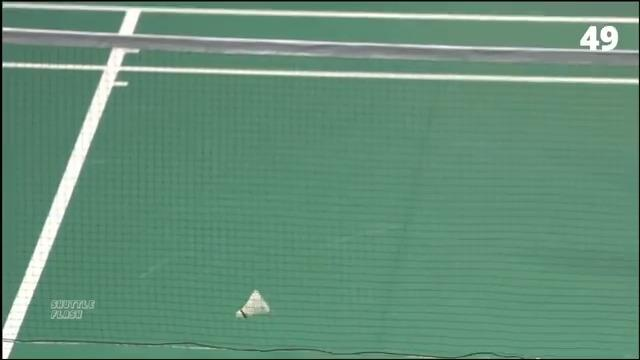Shuttlecock: (232, 288, 278, 324)
